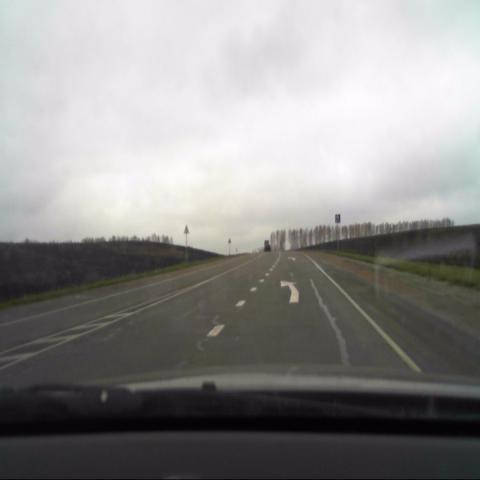5_15_5: (334, 213, 342, 224)
